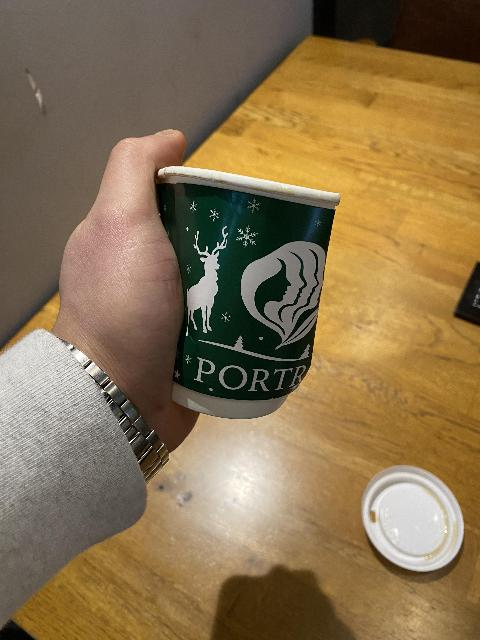Kagit: (148, 154, 340, 421)
Plastik: (359, 459, 467, 576)
